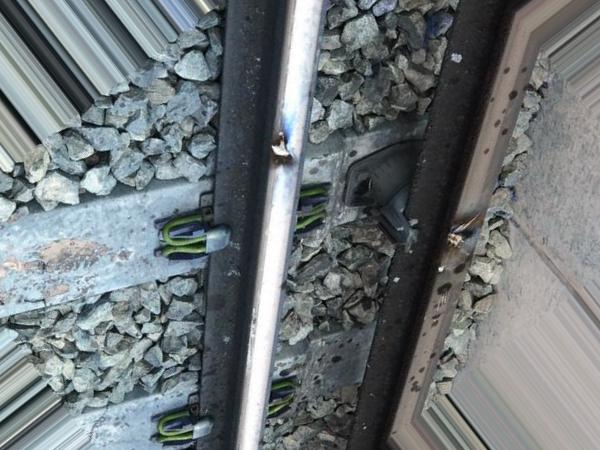tracks_fault: (250, 76, 342, 237), (414, 186, 509, 334)
